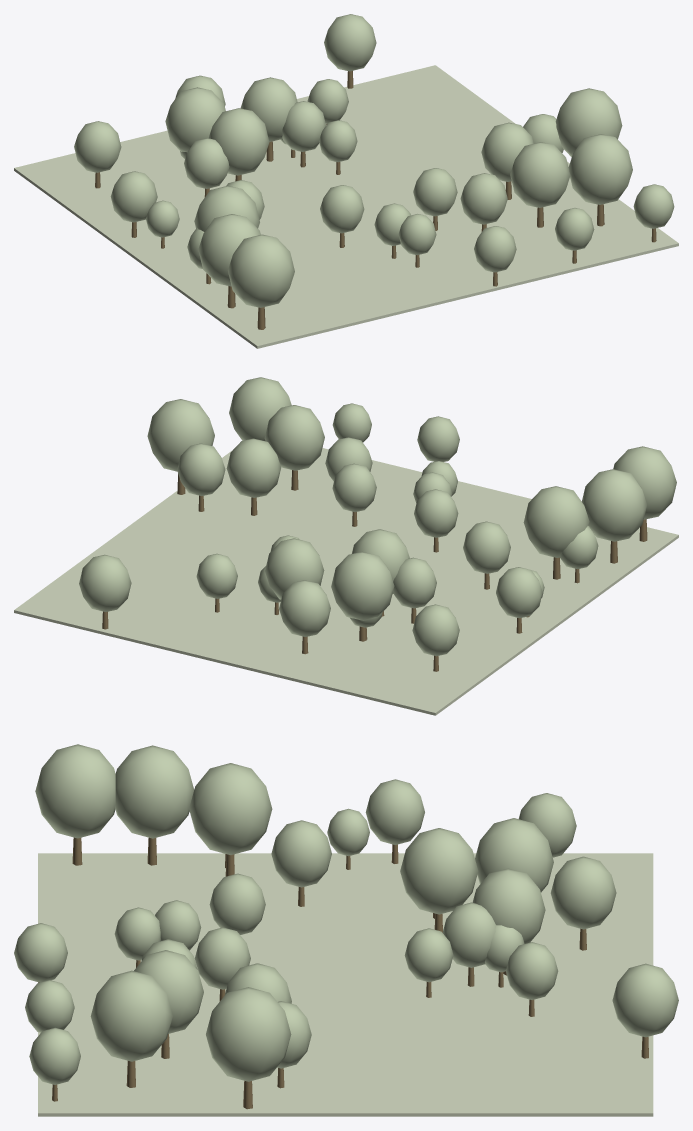
3 renders of one model, top to bottom at view 1: azimuth 30°, elevation 25°; view 2: azimuth 150°, elevation 25°; view 3: azimuth 270°, elevation 25°, orthographic. The views are drawn at different scales.
Parts seen in each view (by area): view 1: terrain, lod-near-12, lod-near-22, lod-near-8, lod-near-17, lod-near-20, lod-near-24, lod-near-0, lod-near-14, lod-near-19, lod-near-25, lod-near-1 (+17 smaller); view 2: terrain, lod-near-0, lod-near-9, lod-near-24, lod-near-17, lod-near-8, lod-near-22, lod-near-12, lod-near-25, lod-near-19, lod-near-14, lod-near-7 (+15 smaller); view 3: terrain, lod-near-17, lod-near-12, lod-near-0, lod-near-9, lod-near-22, lod-near-20, lod-near-24, lod-near-14, lod-near-7, lod-near-19, lod-near-27 (+18 smaller).
Boxes of the visible parts, bbox=[...] form: terrain: bbox=[14, 65, 678, 348]; lod-near-12: bbox=[228, 234, 294, 307]; lod-near-22: bbox=[568, 134, 632, 204]; lod-near-8: bbox=[510, 142, 570, 207]; lod-near-17: bbox=[555, 88, 622, 157]; lod-near-20: bbox=[209, 108, 269, 175]; lod-near-24: bbox=[165, 87, 225, 152]; lod-near-0: bbox=[198, 214, 260, 286]; lod-near-14: bbox=[324, 14, 376, 71]; lod-near-19: bbox=[240, 77, 297, 141]; lod-near-25: bbox=[481, 122, 533, 181]; lod-near-1: bbox=[74, 121, 121, 172]; terrain: bbox=[14, 448, 678, 715]; lod-near-0: bbox=[582, 469, 646, 541]; lod-near-9: bbox=[523, 486, 589, 557]; lod-near-24: bbox=[331, 551, 394, 620]; lod-near-17: bbox=[147, 399, 214, 471]; lod-near-8: bbox=[264, 405, 324, 470]; lod-near-22: bbox=[229, 377, 291, 441]; lod-near-12: bbox=[613, 446, 676, 519]; lod-near-25: bbox=[226, 438, 280, 497]; lod-near-19: bbox=[265, 538, 324, 599]; lod-near-14: bbox=[79, 554, 131, 611]; lod-near-7: bbox=[279, 580, 330, 636]; terrain: bbox=[38, 853, 653, 1116]; lod-near-17: bbox=[206, 987, 291, 1081]; lod-near-12: bbox=[35, 744, 115, 838]; lod-near-0: bbox=[115, 745, 193, 838]; lod-near-9: bbox=[189, 763, 272, 855]; lod-near-22: bbox=[90, 970, 172, 1061]; lod-near-20: bbox=[400, 828, 478, 914]; lod-near-24: bbox=[475, 818, 553, 892]; lod-near-14: bbox=[612, 963, 678, 1037]; lod-near-7: bbox=[550, 856, 616, 929]; lod-near-19: bbox=[472, 868, 545, 943]; lod-near-27: bbox=[271, 820, 331, 887].
Bounding box in the file's own units: 34.39 × 7.03 × 34.58.
